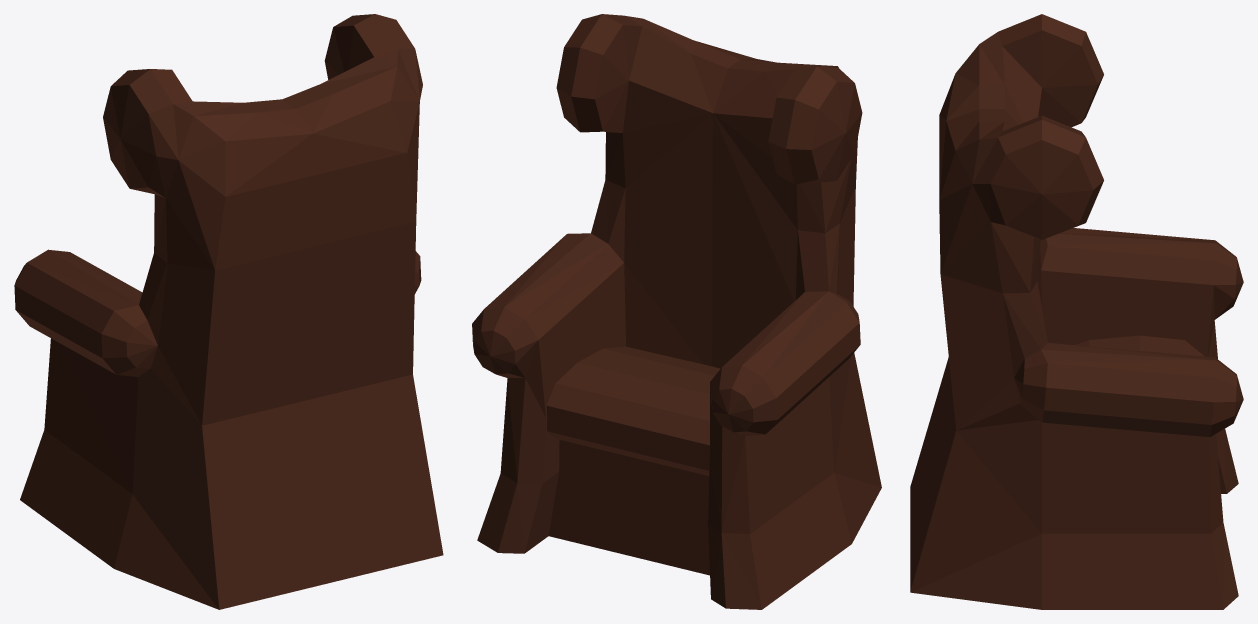
File: THRONE_NW_CITY_01.OBJ
3 renders of one model, left to right at view 1: azimuth 30°, elevation 25°; view 2: azimuth 150°, elevation 25°; view 3: azimuth 270°, elevation 25°, orthographic. The views are drawn at different scales.
Visible parts, largest first — view 1: THRONE_NW_CITY_01; view 2: THRONE_NW_CITY_01; view 3: THRONE_NW_CITY_01.
Part boxes in pixels (<box>): THRONE_NW_CITY_01: <box>14,14,443,609</box>; THRONE_NW_CITY_01: <box>472,14,881,609</box>; THRONE_NW_CITY_01: <box>910,14,1243,609</box>.
Bounding box in the file's own units: 1.03 × 1.52 × 0.9729.
